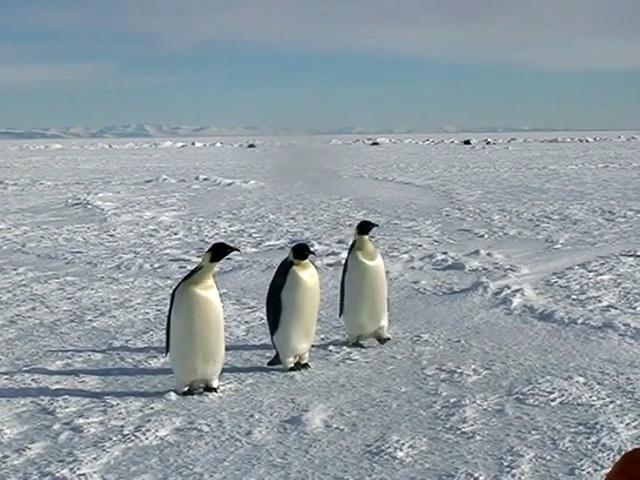animal: (340, 221, 391, 348)
